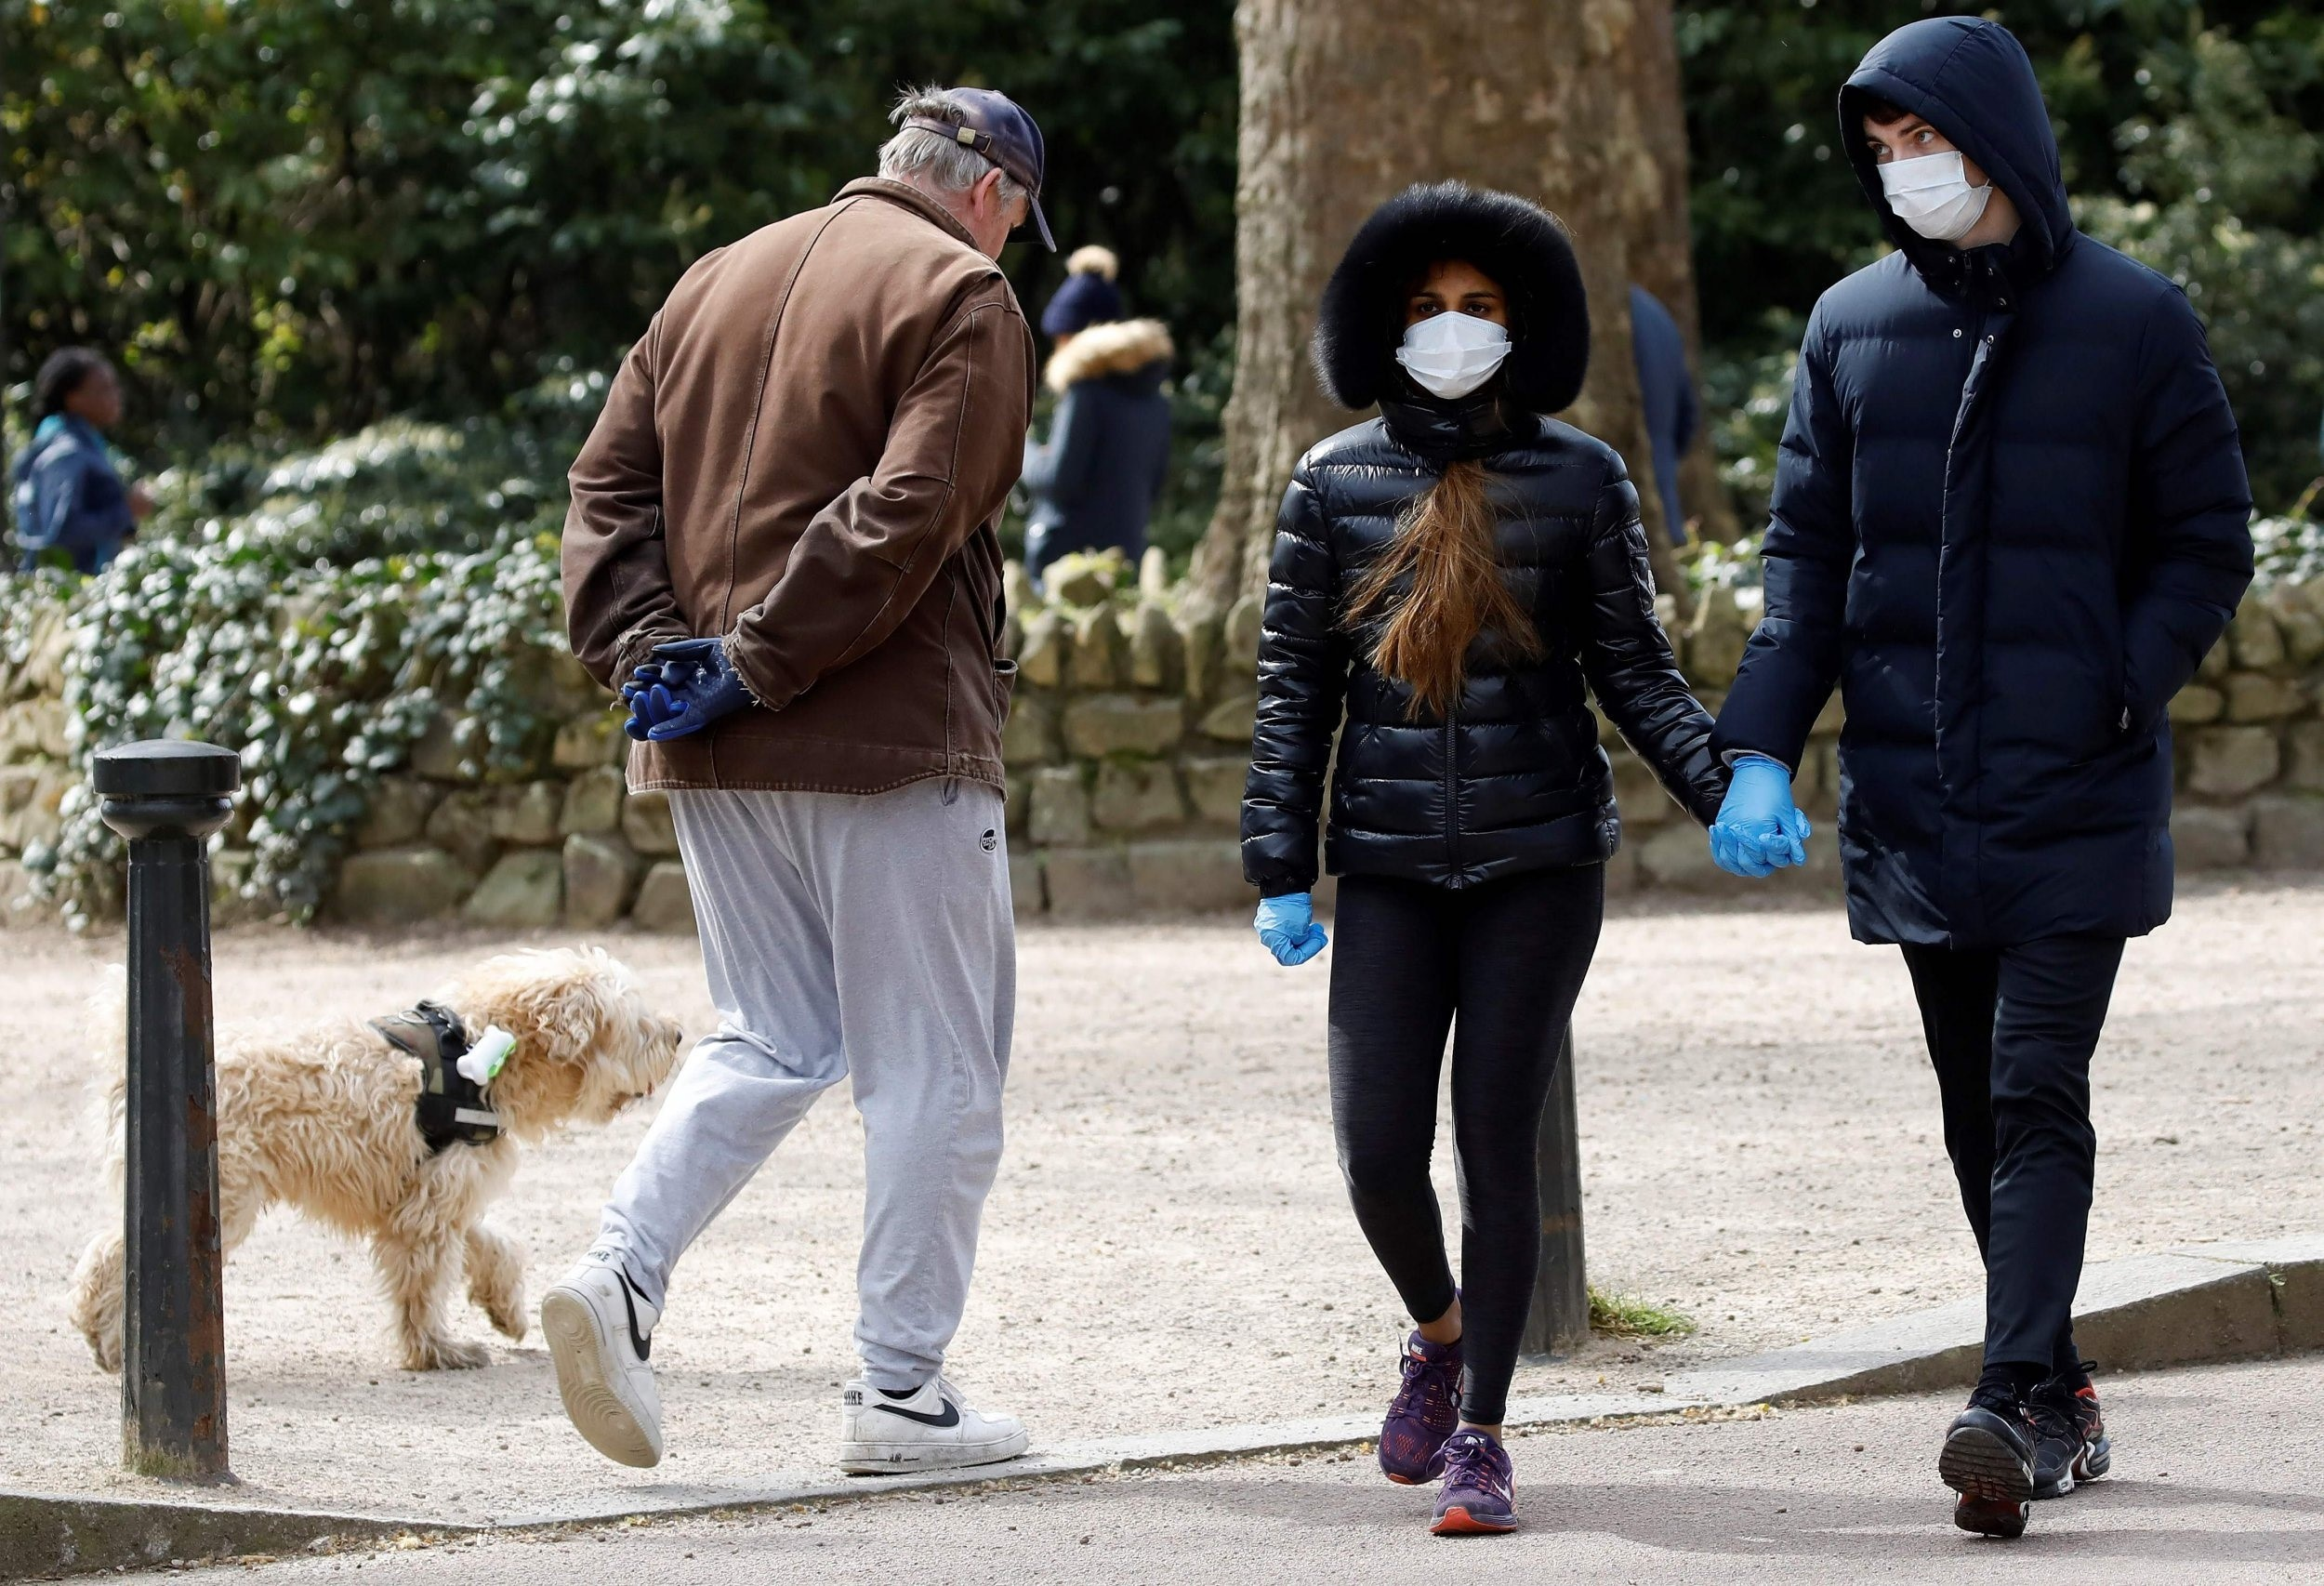face_with_mask: (1860, 59, 2039, 254), (1384, 235, 1539, 422)
